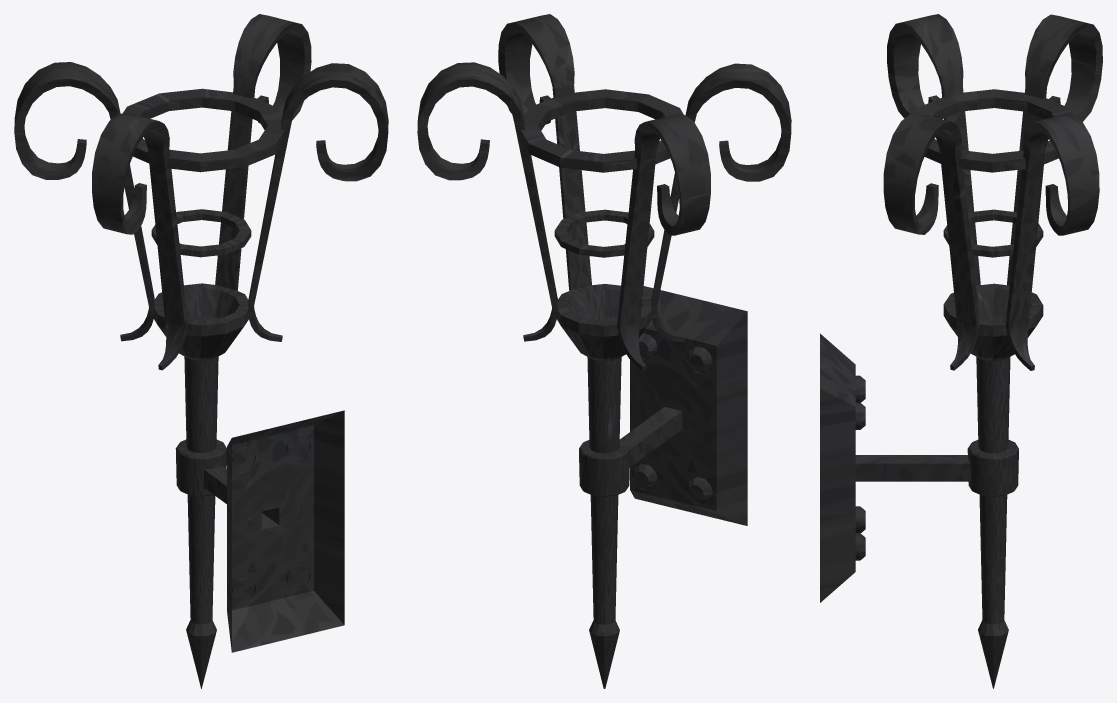
File: torch01.FBX
The picture shows the model from 3 angles, left to right: view 1: azimuth 30°, elevation 25°; view 2: azimuth 150°, elevation 25°; view 3: azimuth 270°, elevation 25°; orthographic projection.
Visible parts, largest first — view 1: Cylinder002; view 2: Cylinder002; view 3: Cylinder002.
Part boxes in pixels (left/top/right/bottom): Cylinder002: left=14, top=14, right=388, bottom=688; Cylinder002: left=417, top=14, right=791, bottom=688; Cylinder002: left=820, top=14, right=1102, bottom=688.
Size of the model in its own units: 31.62 by 62.93 by 26.14.
Materials: 1 (1 with a texture image).
